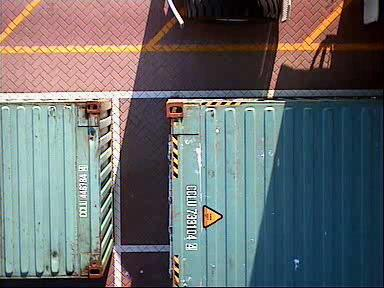groundmarker_2: (7, 1, 92, 127)
